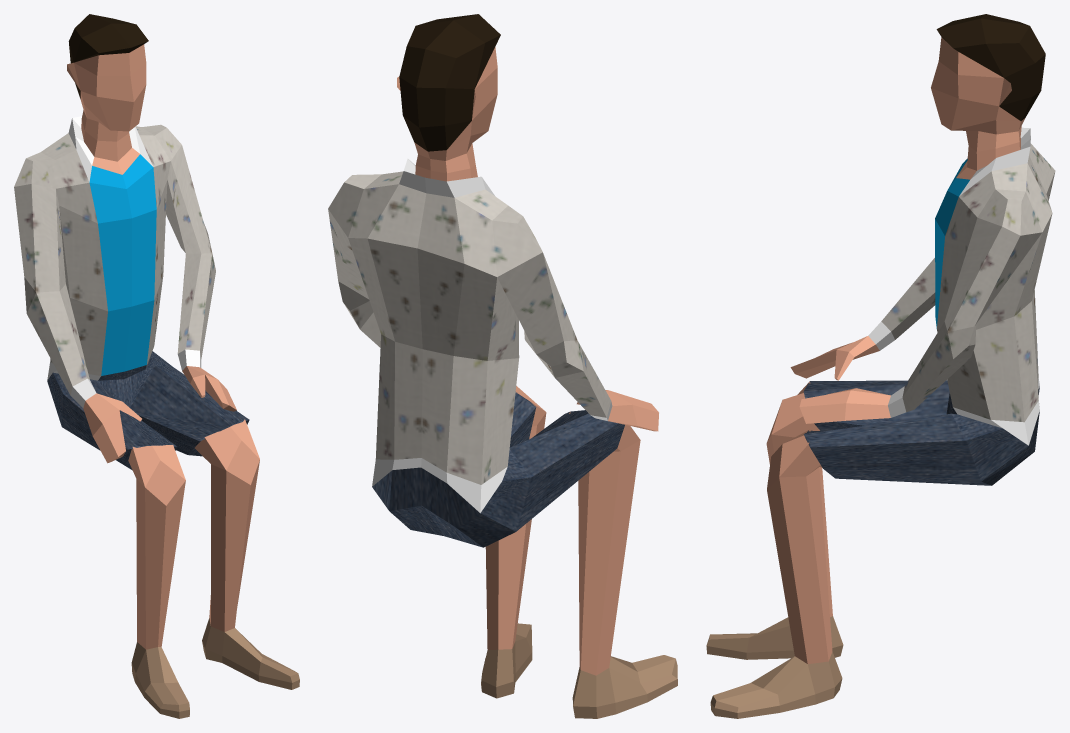
Rendered from SpringManA.010.glb.
3 renders of one model, left to right at view 1: azimuth 30°, elevation 25°; view 2: azimuth 150°, elevation 25°; view 3: azimuth 270°, elevation 25°, orthographic. The views are drawn at different scales.
Visible parts, largest first — view 1: SpringManA.010; view 2: SpringManA.010; view 3: SpringManA.010.
Boxes of the visible parts, bbox=[...] form: SpringManA.010: bbox=[14, 14, 299, 718]; SpringManA.010: bbox=[328, 14, 677, 718]; SpringManA.010: bbox=[706, 14, 1055, 718].
Size of the model in its own units: 0.4556 by 1.38 by 0.6593.
1 material, 1 textured.
